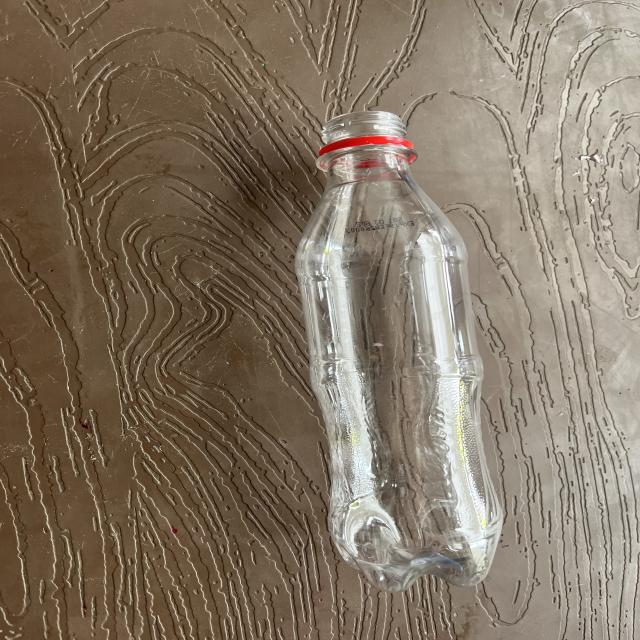PET_With_Cap: (283, 108, 503, 587)
